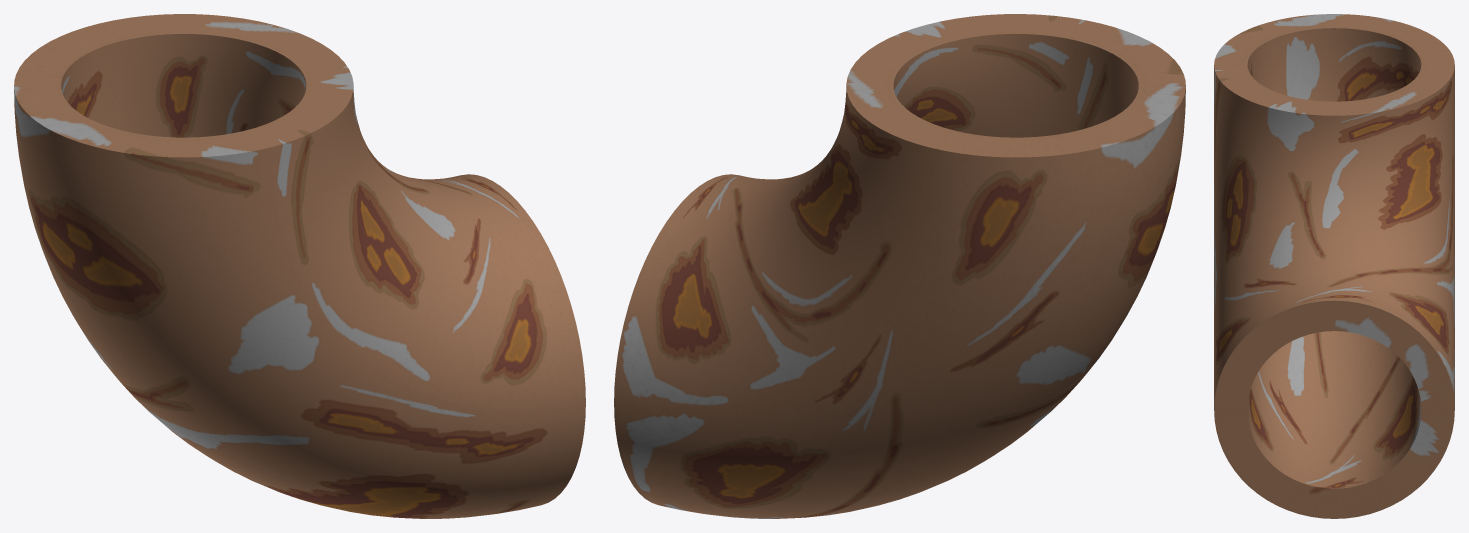
Rendered from Bent Rusty Pipe.fbx.
The picture shows the model from 3 angles, left to right: view 1: azimuth 30°, elevation 25°; view 2: azimuth 150°, elevation 25°; view 3: azimuth 270°, elevation 25°; orthographic projection. The views are drawn at different scales.
Visible parts, largest first — view 1: BentPipe; view 2: BentPipe; view 3: BentPipe.
Boxes of the visible parts, x1,y1,x2,y2 form: BentPipe: (14,14,585,518); BentPipe: (614,14,1185,518); BentPipe: (1214,14,1454,518).
Bounding box in the file's own units: 103 × 103 × 65.
1 material, 1 textured.
